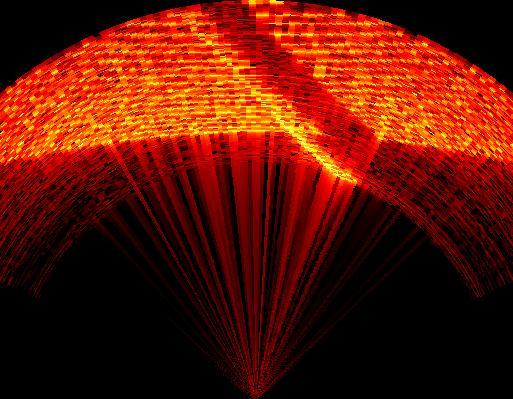pipe: (200, 2, 382, 178)
